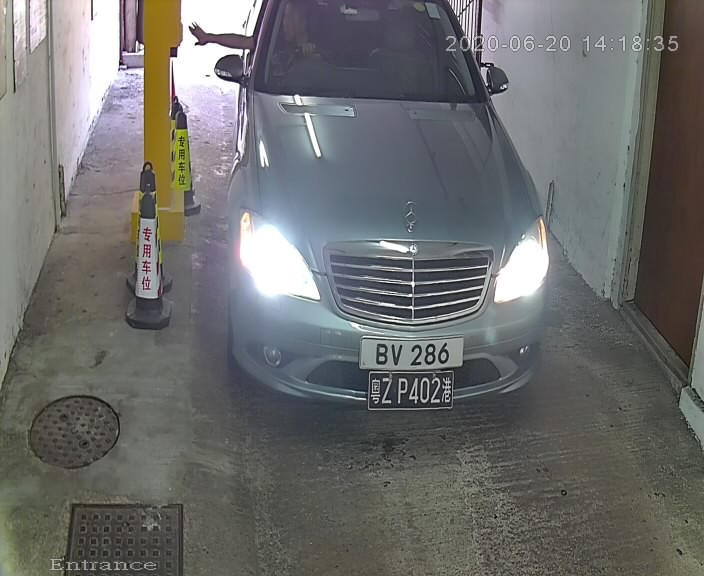privatecar: (220, 3, 559, 433)
